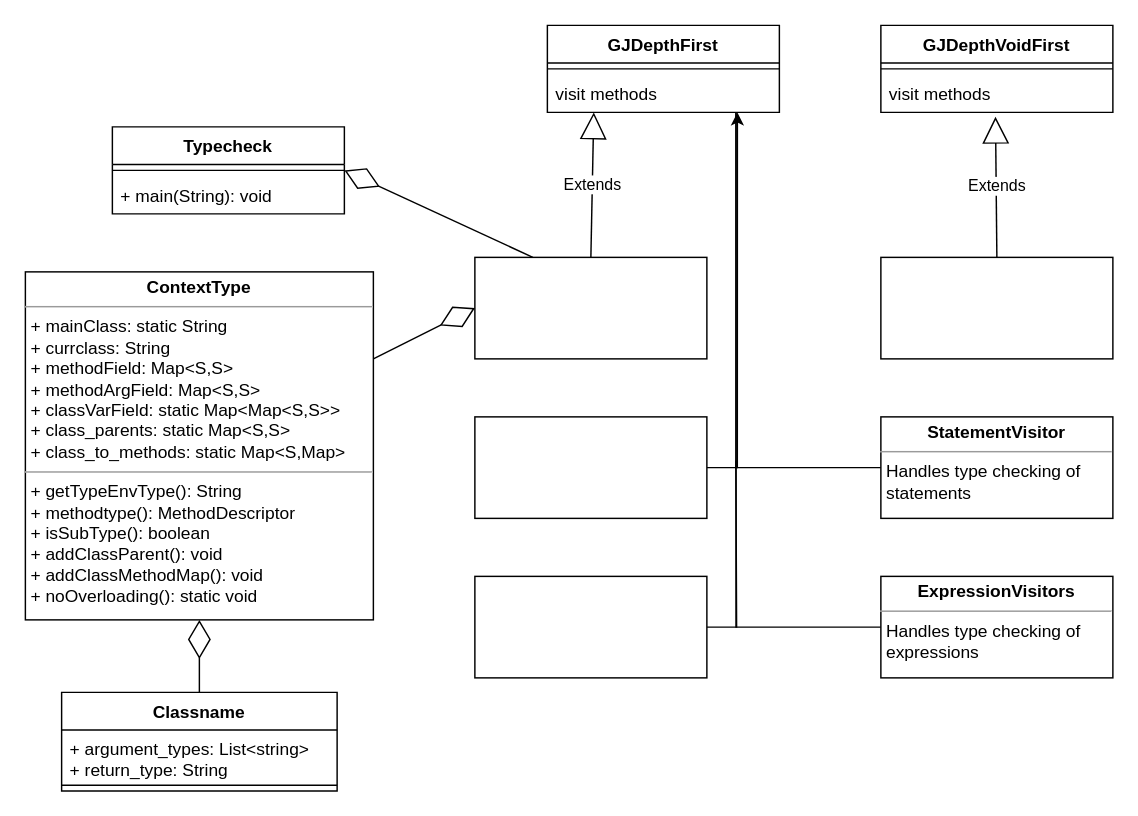
Image size: 1138x816. Some labels were removed from this diagram. The shapes that lost their labels are listed below. From the top down, each one's centre as x and y in pixels, then its label:
At point (590, 307): "UpperLevelVisitor Goal through method visitors.".
At point (996, 307): "EarlyClassVisitor Initial cataloguing of class types and parents.".
At point (590, 466): "TypeEnvCreator Handles creation of type environments".
At point (590, 626): "MethodArgFill Creates MethodDescriptors and stores in ContextType".
